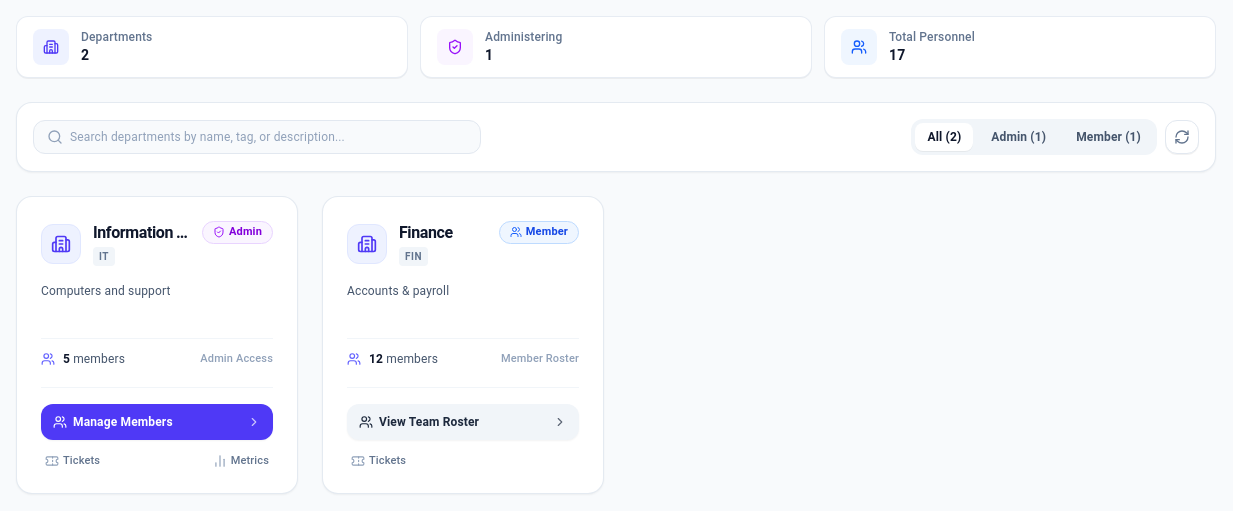
Test: DepartmentListPage › filters departments using search input
Expected: the heading "Information Technology" is shown, [93,221,190,245]
Expected: the heading "Finance" is shown, [399,221,453,245]
In the field with placeholder "Search departments by name, tag, or description...": (257, 137) [33,120,481,154], type "Finance"
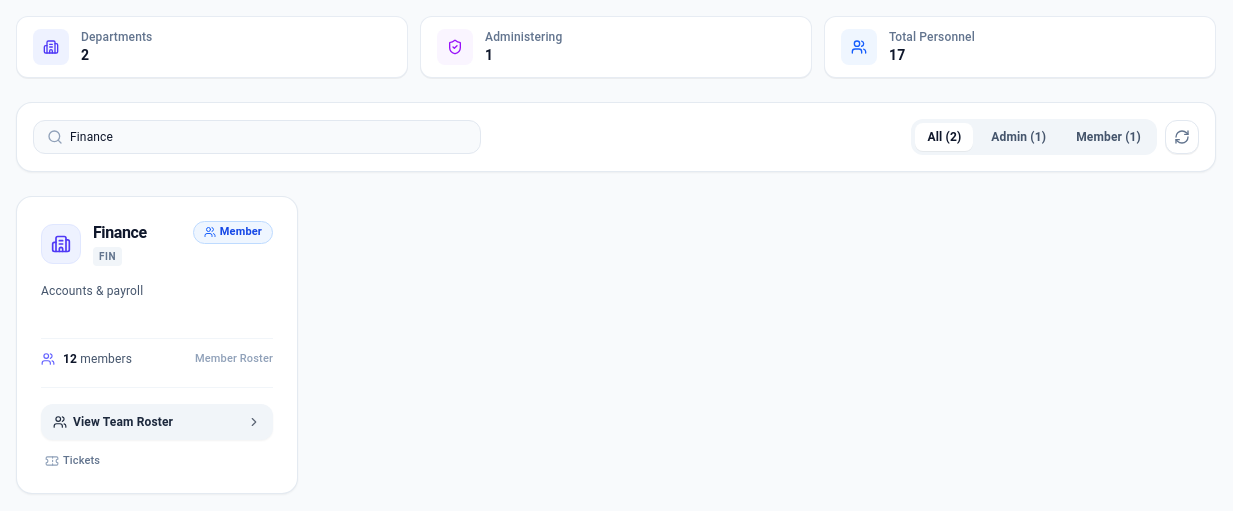
Expected: the heading "Finance" is shown, [93,221,147,245]
Now the heading "Information Technology" is gone
